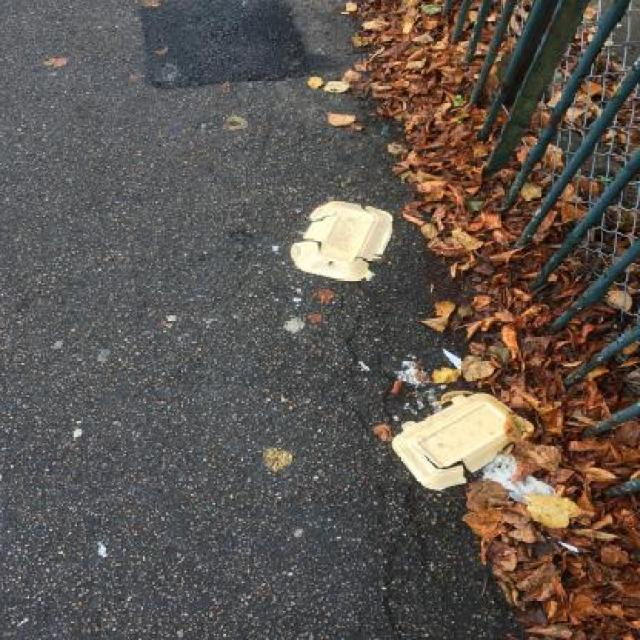Garbage: (392, 393, 519, 491), (290, 201, 393, 280), (481, 454, 556, 504)
